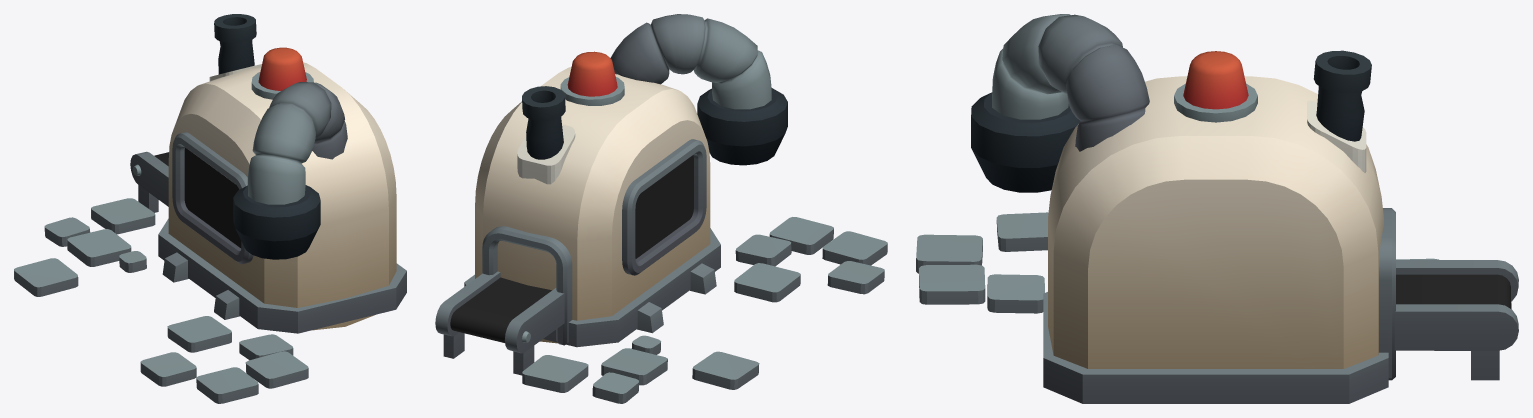
File: incubator.fbx
3 views of the same model, side by side, from view 1: azimuth 30°, elevation 25°; view 2: azimuth 150°, elevation 25°; view 3: azimuth 270°, elevation 25° (orthographic). The views are drawn at different scales.
Visible parts, largest first — view 1: Cube.007, Plane.001, Cube.012, Cylinder.009, Cube.014, Cube.015, Plane.004, Plane.007, Plane.002, Plane.011, Plane.010, Plane.009 (+10 smaller); view 2: Cube.007, Plane.001, Cube.010, Cylinder.009, Cube.014, Cube.012, Cube.015, Cube.001, Plane.007, Cylinder.005, Plane.010, Plane.004 (+13 smaller); view 3: Cube.007, Plane.001, Cube.012, Cube.010, Cylinder.009, Cylinder.005, Plane.011, Cube.001, Plane.012, Cylinder.007, Plane.009, Cylinder.006 (+4 smaller).
Boxes of the visible parts, x1,y1,x2,y2 form: Cube.007: [168, 62, 396, 330]; Plane.001: [247, 82, 347, 204]; Cube.012: [158, 218, 406, 333]; Cylinder.009: [233, 185, 320, 259]; Cube.014: [172, 132, 253, 264]; Cube.015: [184, 147, 241, 248]; Plane.004: [14, 258, 78, 296]; Plane.007: [167, 316, 231, 352]; Plane.002: [67, 229, 131, 266]; Plane.011: [245, 351, 308, 388]; Plane.010: [91, 198, 155, 234]; Plane.009: [196, 367, 258, 403]; Cube.007: [475, 67, 710, 343]; Plane.001: [610, 14, 771, 109]; Cube.010: [435, 271, 564, 353]; Cylinder.009: [697, 88, 787, 165]; Cube.014: [622, 139, 706, 275]; Cube.012: [464, 228, 720, 347]; Cube.015: [635, 155, 693, 258]; Cube.001: [482, 226, 572, 345]; Plane.007: [734, 263, 800, 302]; Cylinder.005: [567, 51, 617, 96]; Plane.010: [522, 355, 588, 392]; Plane.004: [692, 351, 759, 389]; Cube.007: [1048, 76, 1383, 368]; Plane.001: [992, 14, 1149, 151]; Cube.012: [1043, 292, 1388, 403]; Cube.010: [1394, 260, 1518, 350]; Cylinder.009: [971, 92, 1080, 192]; Cylinder.005: [1183, 51, 1248, 109]; Plane.011: [919, 264, 985, 304]; Cube.001: [1379, 208, 1395, 380]; Plane.012: [987, 274, 1044, 313]; Cylinder.007: [1313, 50, 1371, 93]; Plane.009: [916, 234, 982, 273]; Cylinder.006: [1316, 86, 1364, 141].
Bounding box in the file's own units: 0.7988 × 1.11 × 0.6528.
